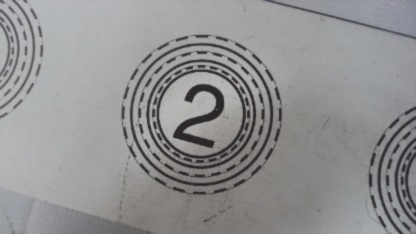2r: (120, 34, 282, 196)
